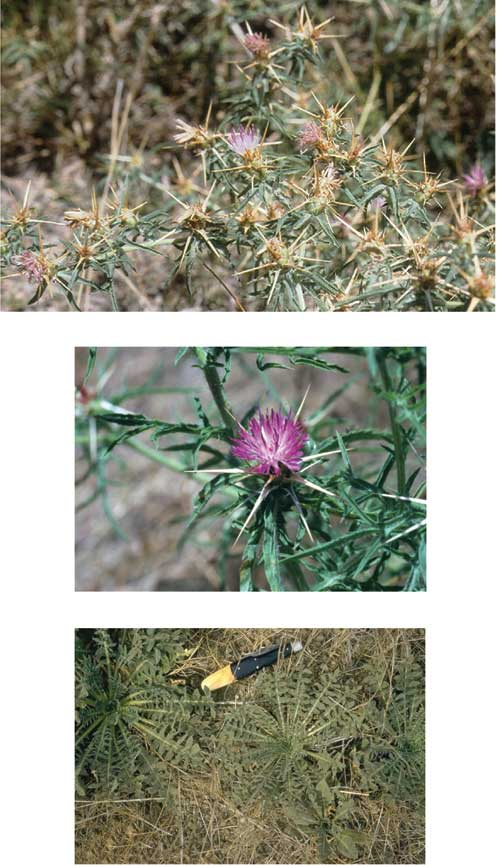thistle: (192, 400, 357, 558), (207, 121, 282, 189)
